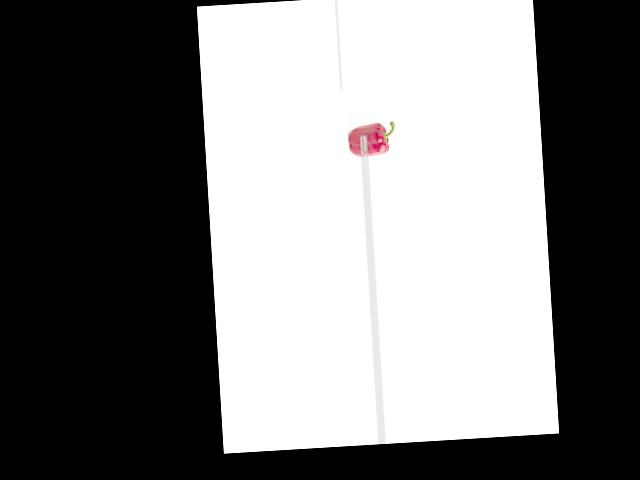bell_pepper: (348, 116, 399, 160)
